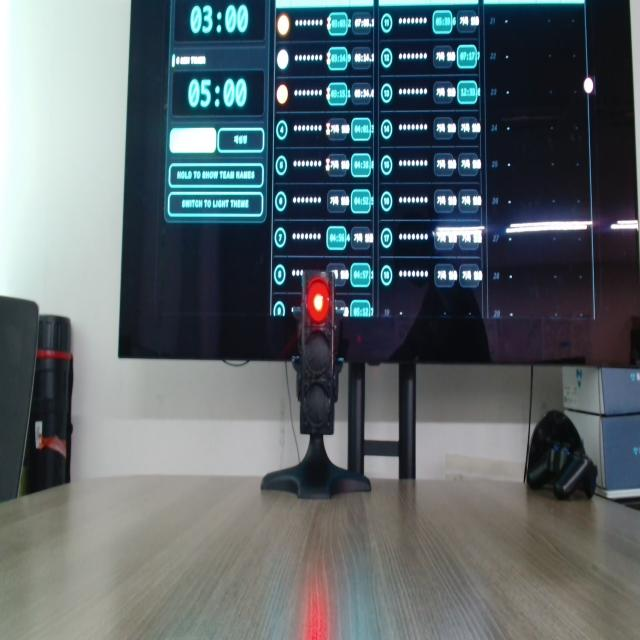red_light: (307, 278, 330, 323)
